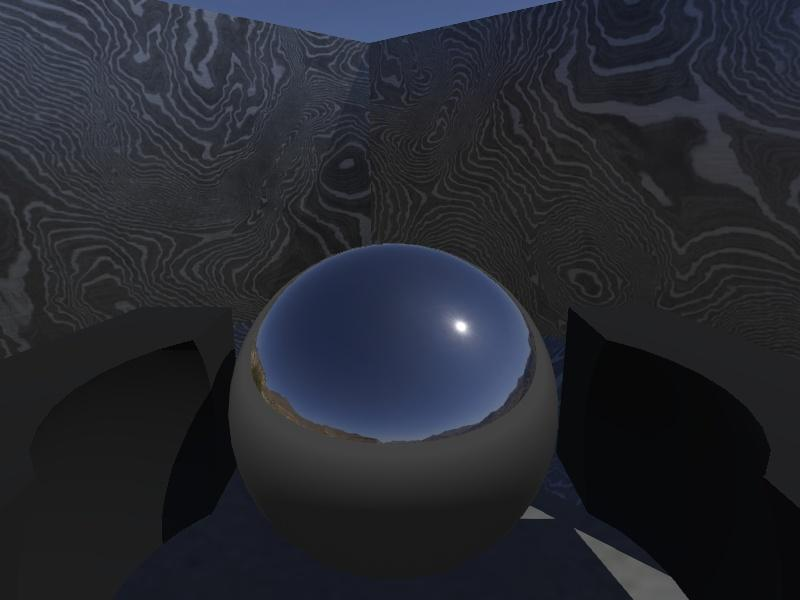steel ball: (227, 242, 561, 585)
